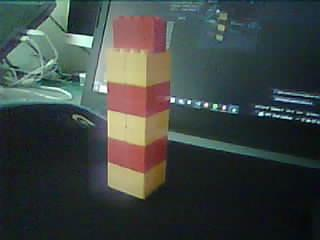lego: (105, 13, 173, 199)
